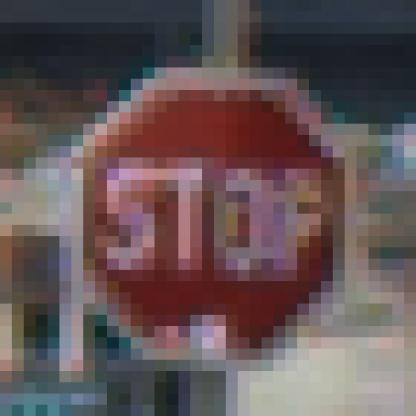stop: (64, 53, 354, 361)
